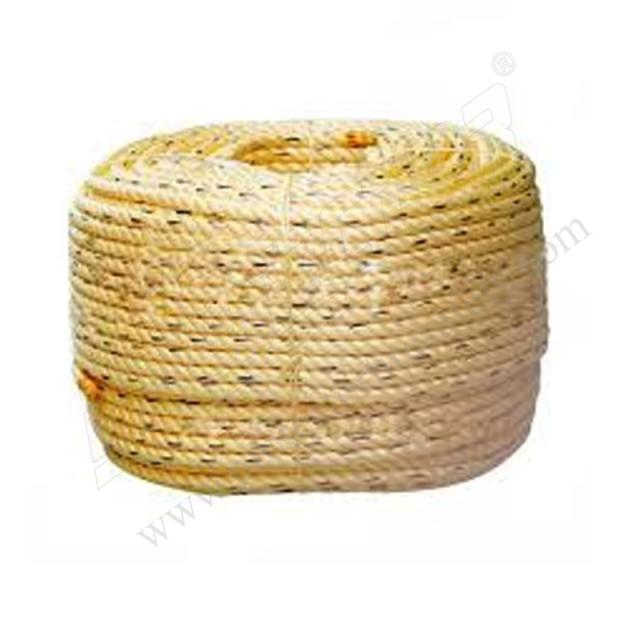Rope: (66, 105, 558, 512)
